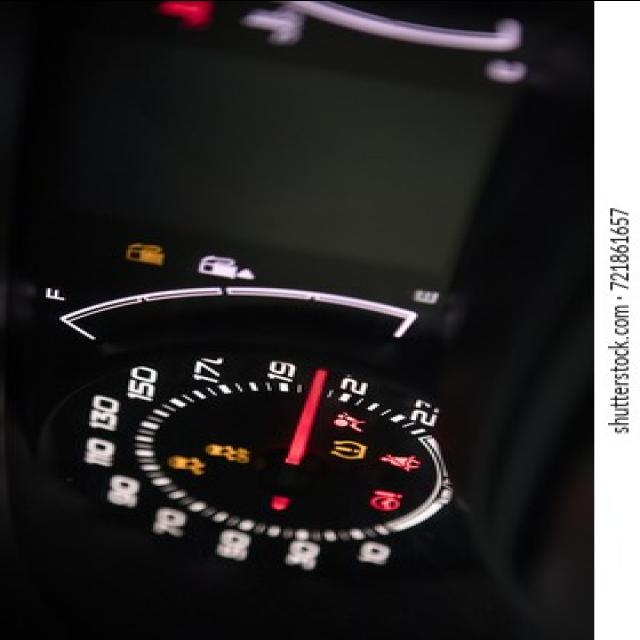Low Tire Pressure Warning Light: (324, 438, 370, 460)
SRS-Airbag: (327, 408, 368, 432)
